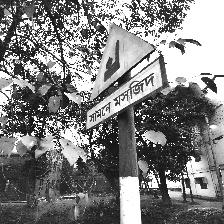Mosque in front: (83, 22, 167, 132)
